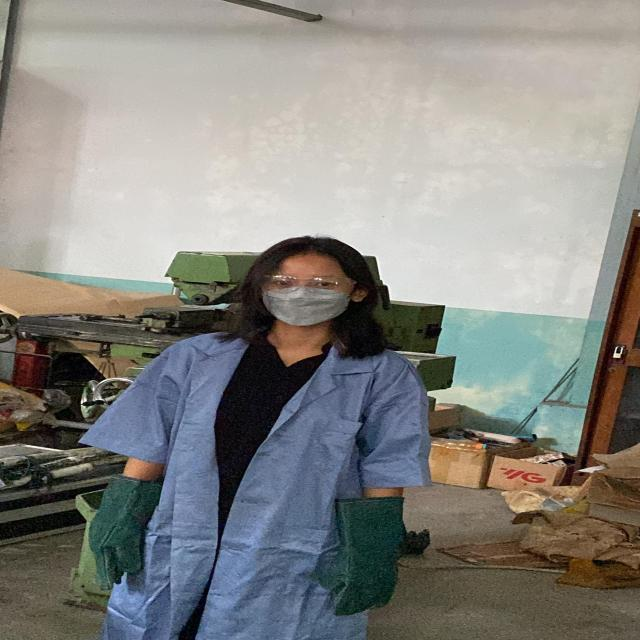glasses: (249, 273, 359, 295)
